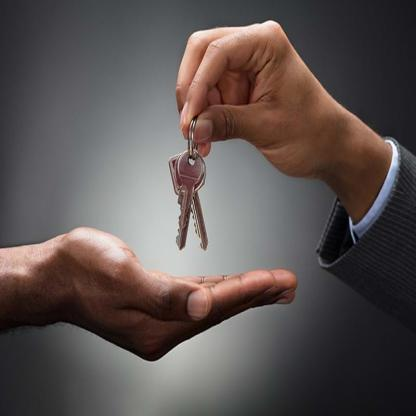keys: (168, 147, 210, 253)
